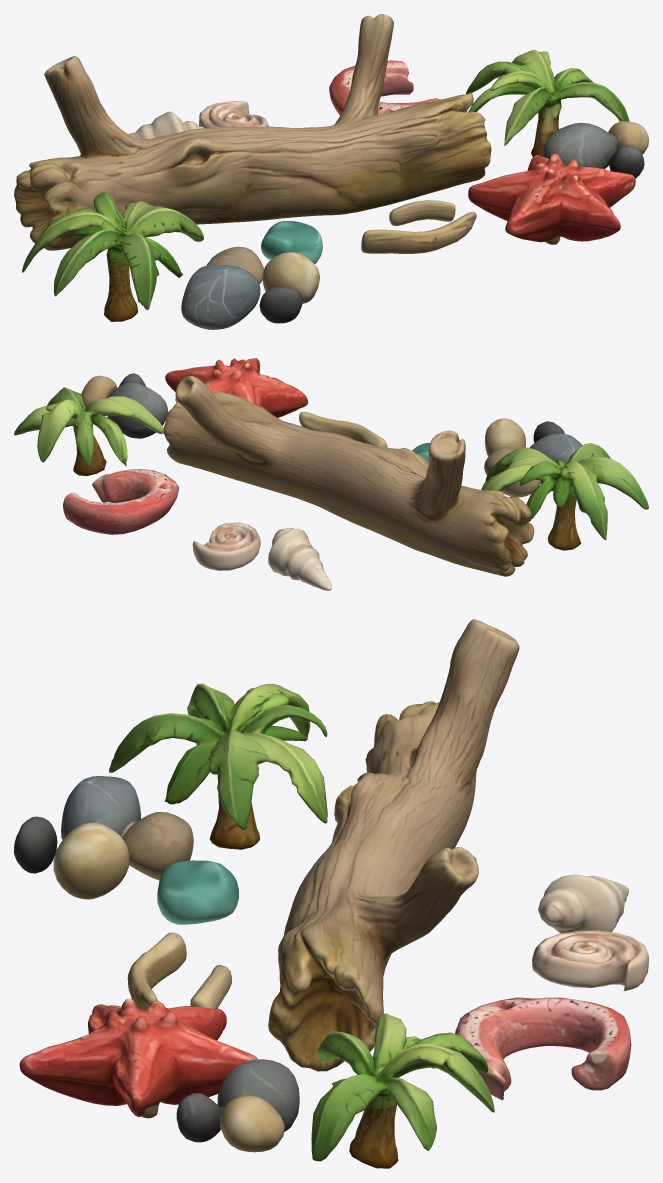
The model's file is terrain-beach-hyper3d.glb.
3 views of the same model, one above another, from view 1: azimuth 30°, elevation 25°; view 2: azimuth 150°, elevation 25°; view 3: azimuth 270°, elevation 25° (orthographic). The views are drawn at different scales.
Parts seen in each view (by area): view 1: model; view 2: model; view 3: model.
Part boxes in pixels (bbox=[...]): model: bbox=[14, 14, 648, 329]; model: bbox=[14, 358, 648, 590]; model: bbox=[14, 619, 648, 1168].
Size of the model in its own units: 1.89 by 0.5352 by 1.21.
1 material, 1 textured.
